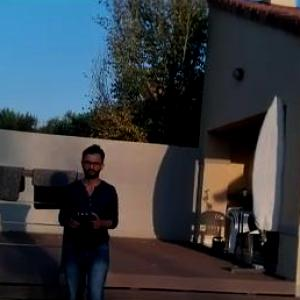follow: (54, 136, 126, 299)
